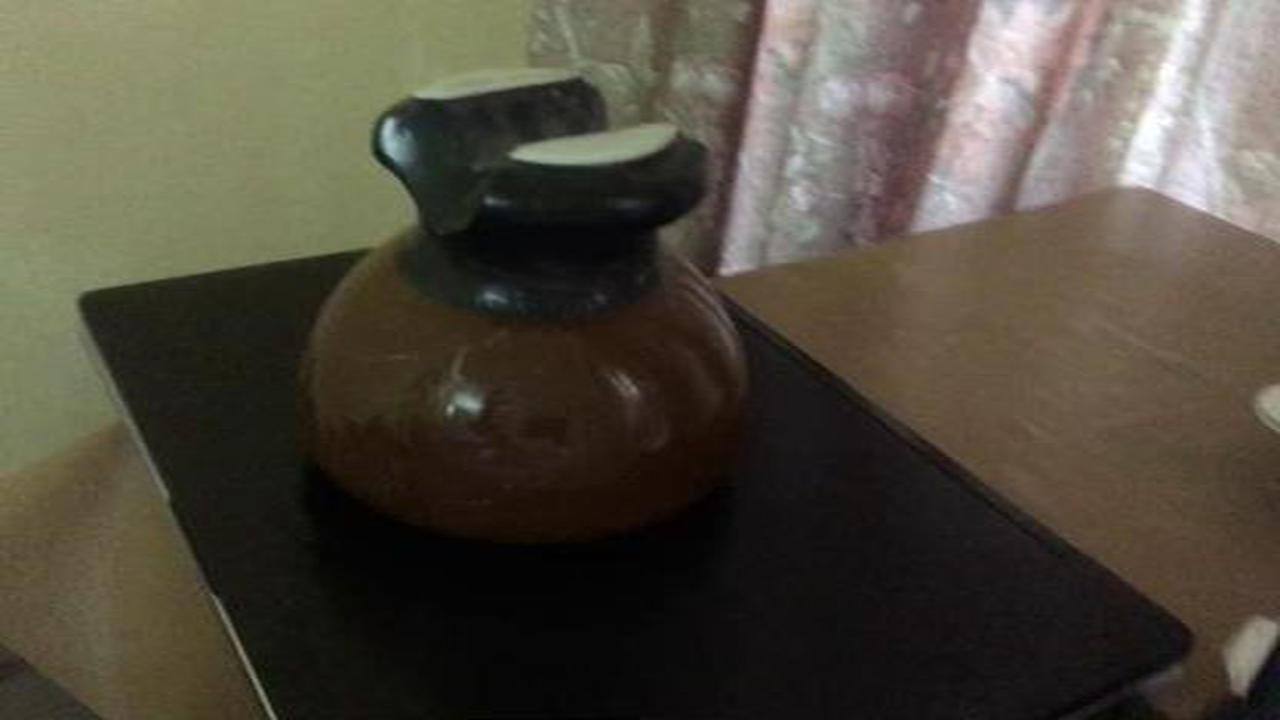insulator_pin: (265, 59, 788, 558)
